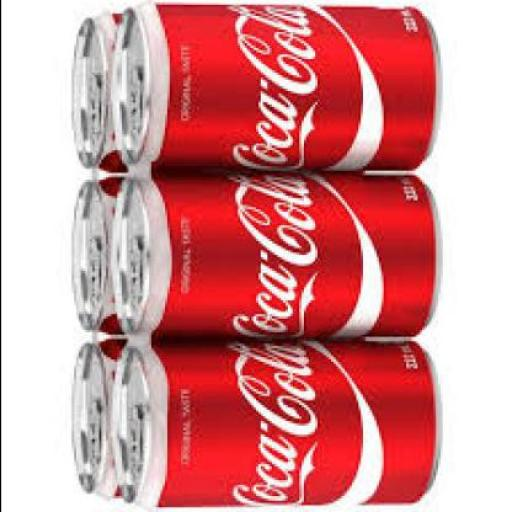metal: (109, 341, 437, 509), (107, 176, 430, 342), (112, 9, 434, 173), (70, 179, 134, 342), (63, 15, 125, 173), (71, 341, 130, 501)
